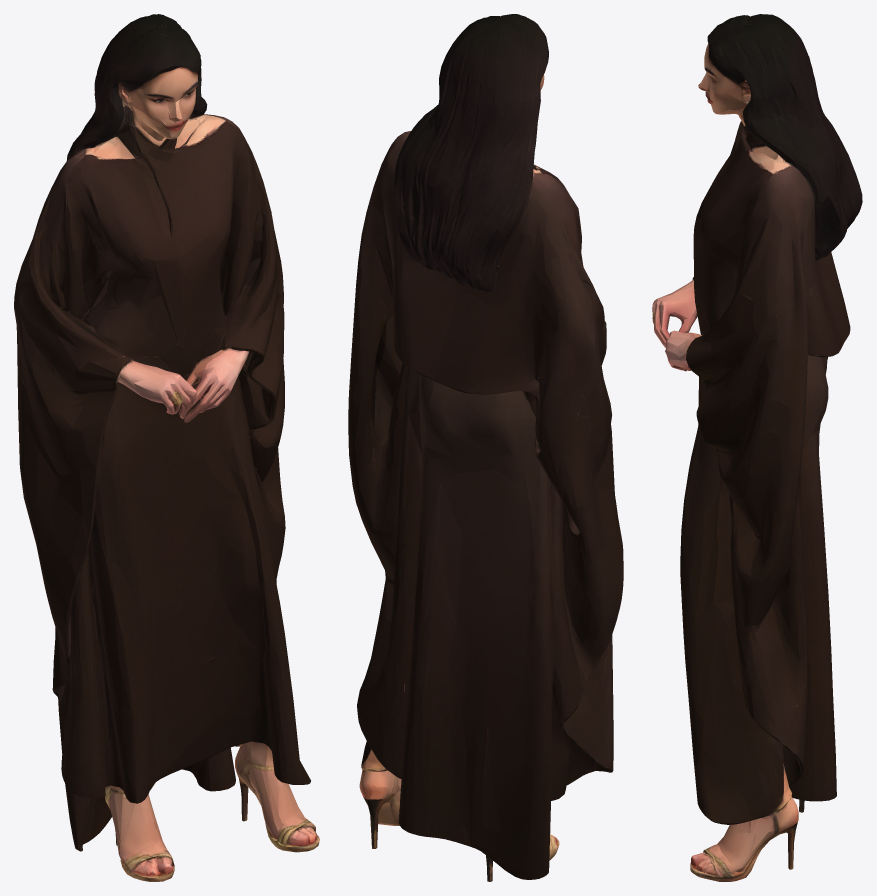
File: kaftan.glb
The picture shows the model from 3 angles, left to right: view 1: azimuth 30°, elevation 25°; view 2: azimuth 150°, elevation 25°; view 3: azimuth 270°, elevation 25°; orthographic projection. The views are drawn at different scales.
Bounding box in the file's own units: 0.6095 × 1.9 × 0.4506.
1 material, 1 textured.
